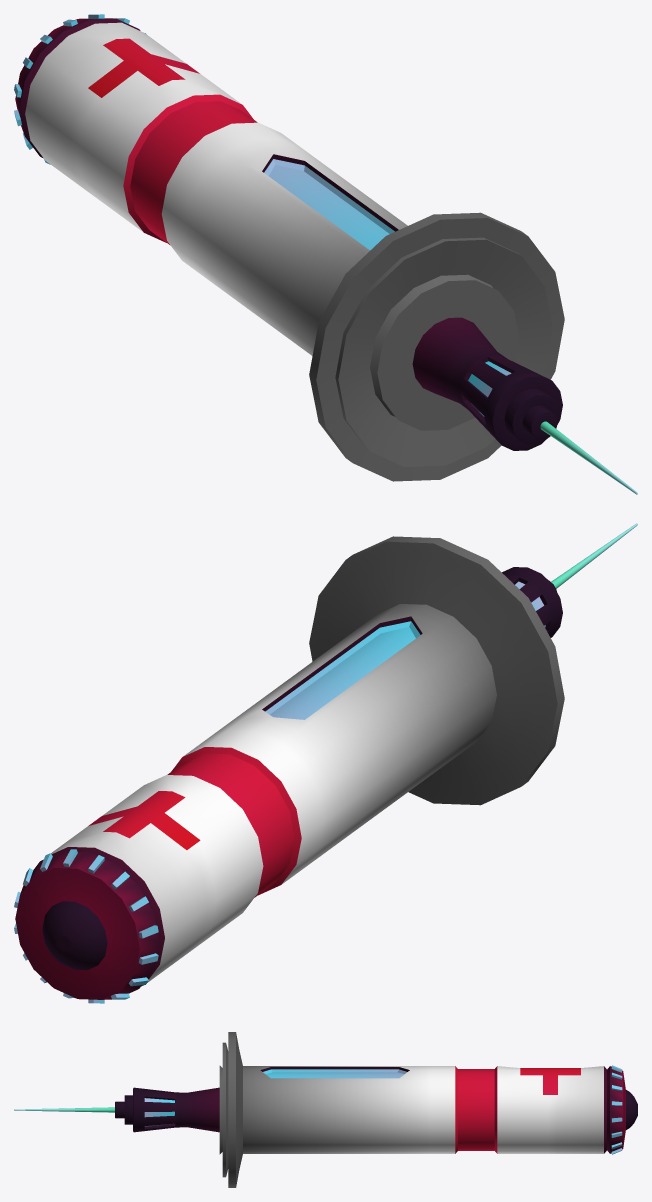
Rendered from Scifi Syringe Heal Try.fbx.
3 views of the same model, one above another, from view 1: azimuth 30°, elevation 25°; view 2: azimuth 150°, elevation 25°; view 3: azimuth 270°, elevation 25° (orthographic). The views are drawn at different scales.
Parts seen in each view (by area): view 1: Cylinder.003; view 2: Cylinder.003; view 3: Cylinder.003.
Part boxes in pixels (x1=…): Cylinder.003: x1=14, y1=14, x2=637, y2=494; Cylinder.003: x1=14, y1=523, x2=637, y2=1003; Cylinder.003: x1=14, y1=1032, x2=637, y2=1187.
Size of the model in its own units: 355 by 355 by 1419.
1 material, 1 textured.
